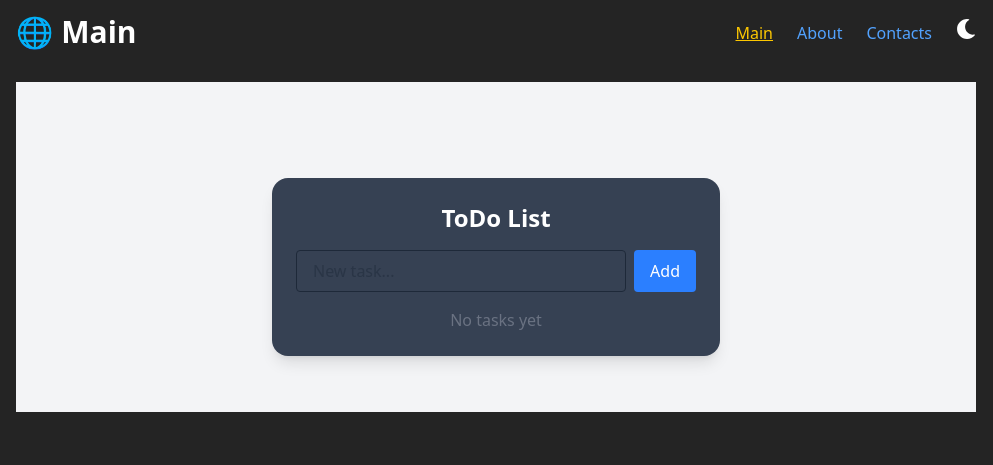
Test case: TodoList › shows an error message if "Add" is clicked with insufficient text
The image size is (993, 465).
Click the button "Add" at (665, 271), box left=634, top=250, right=696, bottom=292
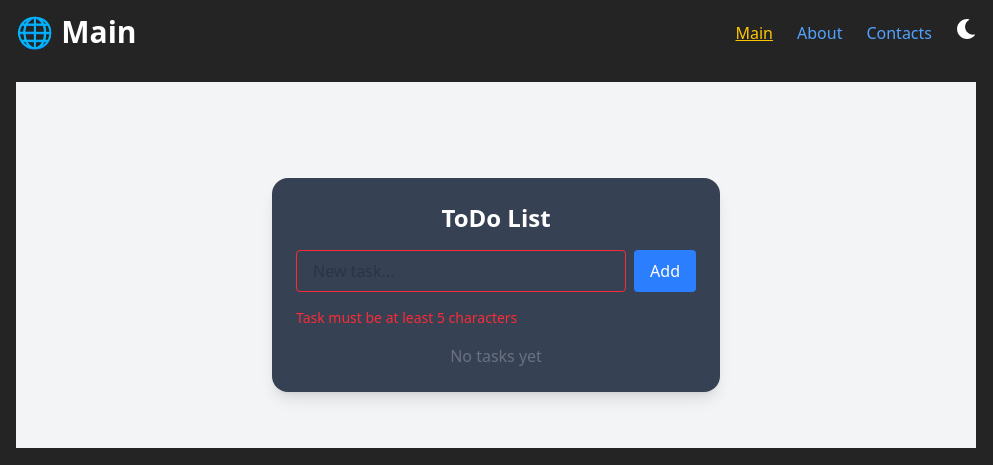
Result: the text "Task must be at least 5 characters" is shown at left=296, top=308, right=517, bottom=327
